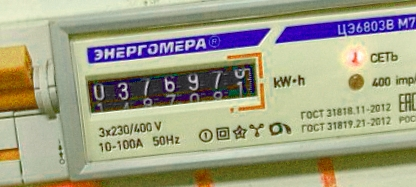0: (91, 80, 106, 101)
1: (234, 78, 247, 97)
3: (115, 79, 130, 100)
6: (161, 70, 177, 93)
7: (137, 74, 153, 97), (209, 67, 224, 90)
9: (185, 70, 200, 92)
screen: (76, 46, 272, 131)
